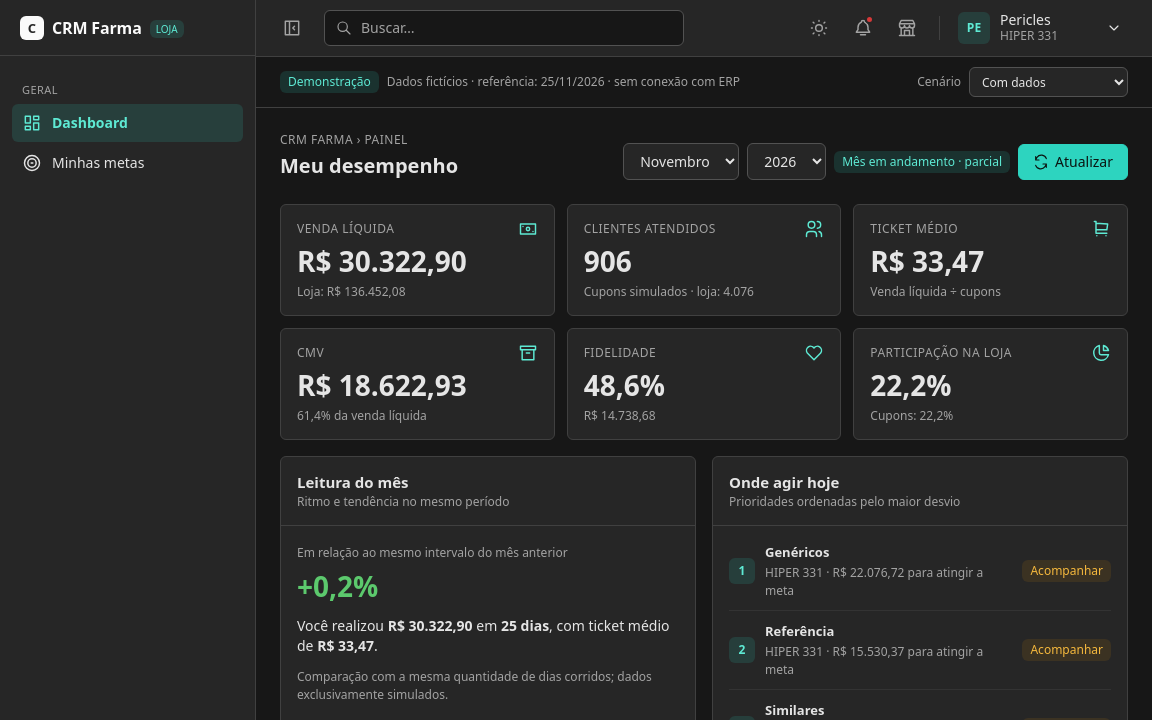
Test: theme switching is persisted and sidebar can collapse
This screenshot has width=1152, height=720.
Expected: the heading "Meu desempenho" is shown, x1=280 y1=152 x2=458 y2=180
Click the button named "Usar tema claro" at (819, 28), box x1=799 y1=8 x2=839 y2=48
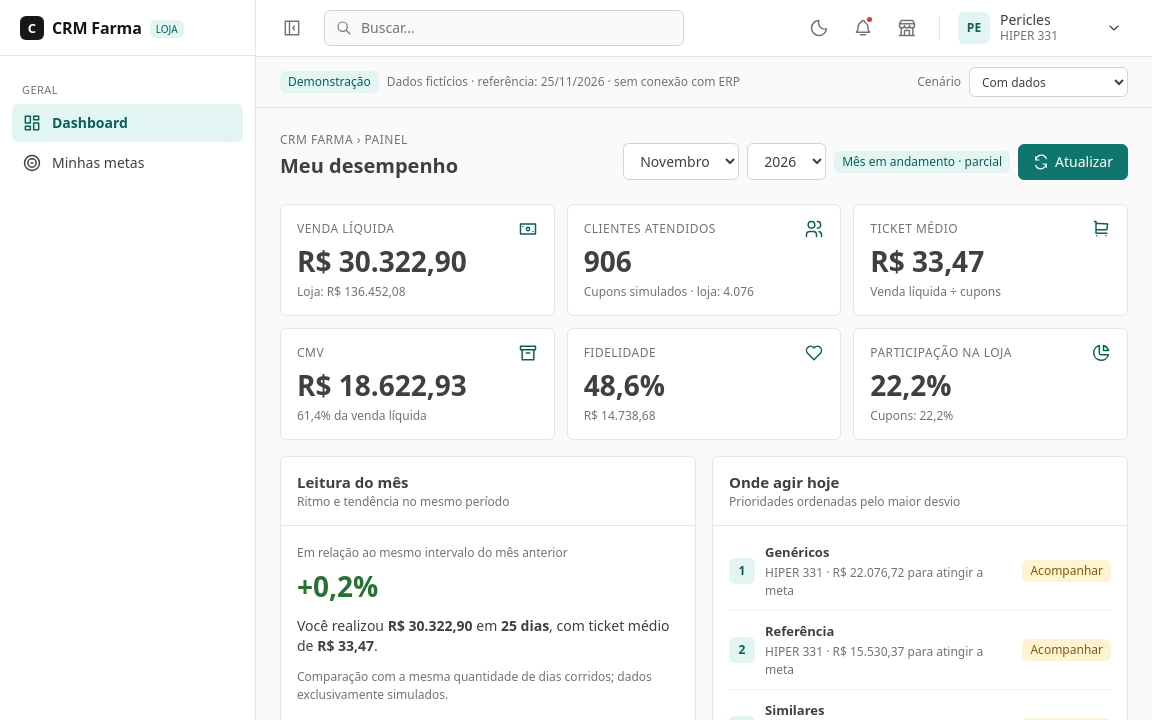
Click the button named "Recolher menu lateral" at (292, 28), box x1=272 y1=8 x2=312 y2=48
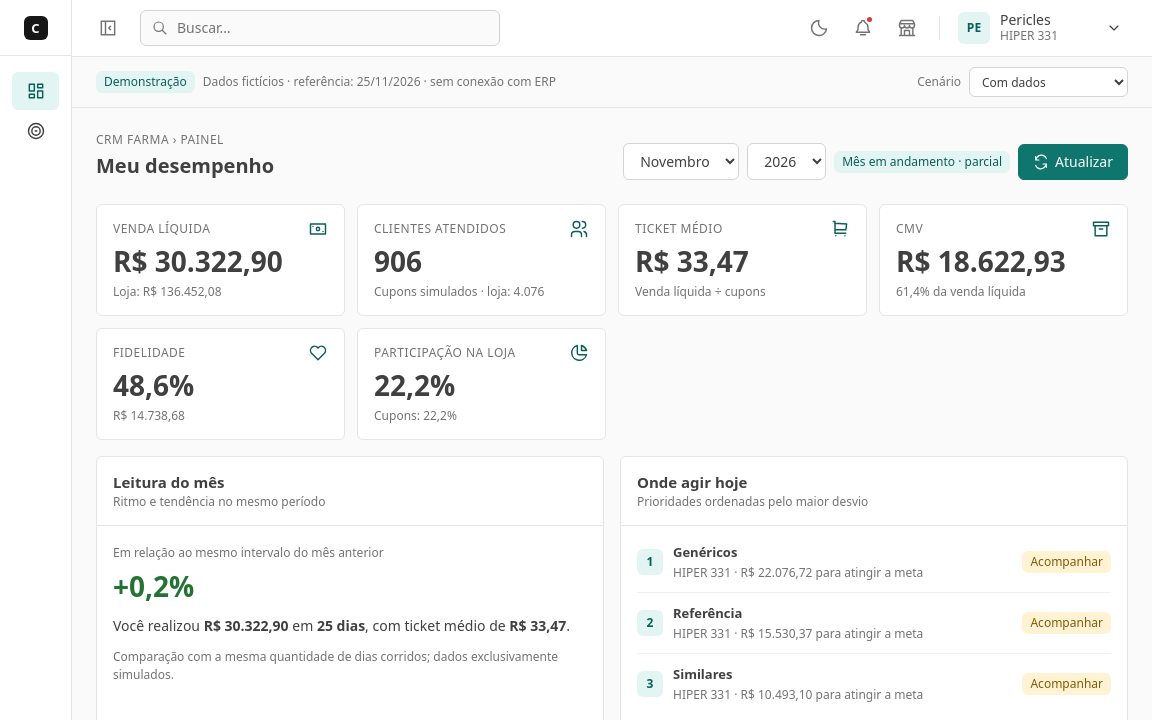
Result: the button named "Expandir menu lateral" is collapsed at x1=88 y1=8 x2=128 y2=48
